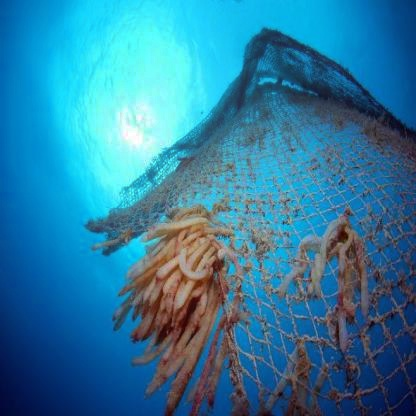net: (107, 32, 415, 416)
